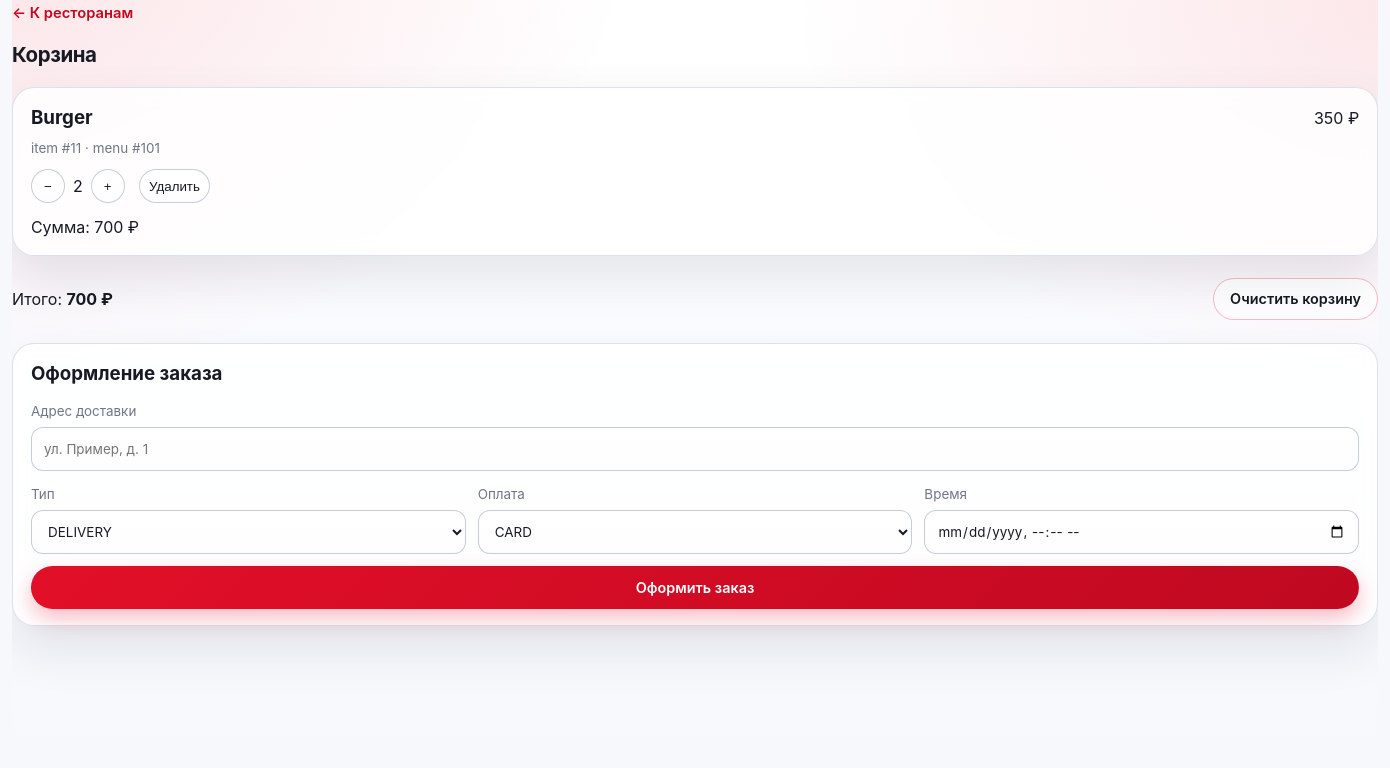
Scenario: CartPage › decrements quantity, clears cart and shows item action errors
Expected: the heading "Burger" is shown, top-left (31, 104), bottom-right (93, 132)
Click the button "−". click: (48, 186)
box: top-left (31, 170), bottom-right (65, 204)
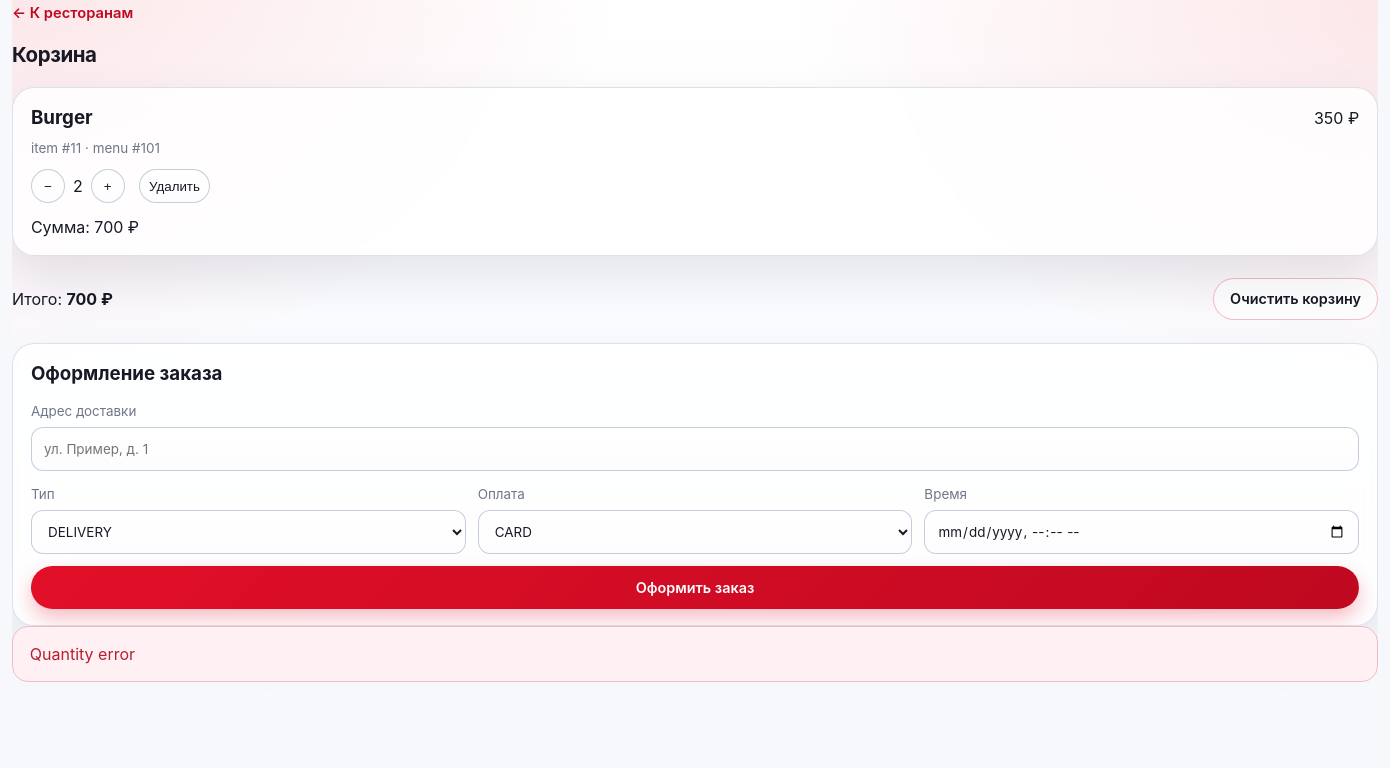
Expected: the text "Quantity error" is shown, top-left (30, 644), bottom-right (135, 664)
Click the button "Очистить корзину". click: (1296, 299)
box: top-left (1213, 278), bottom-right (1378, 320)
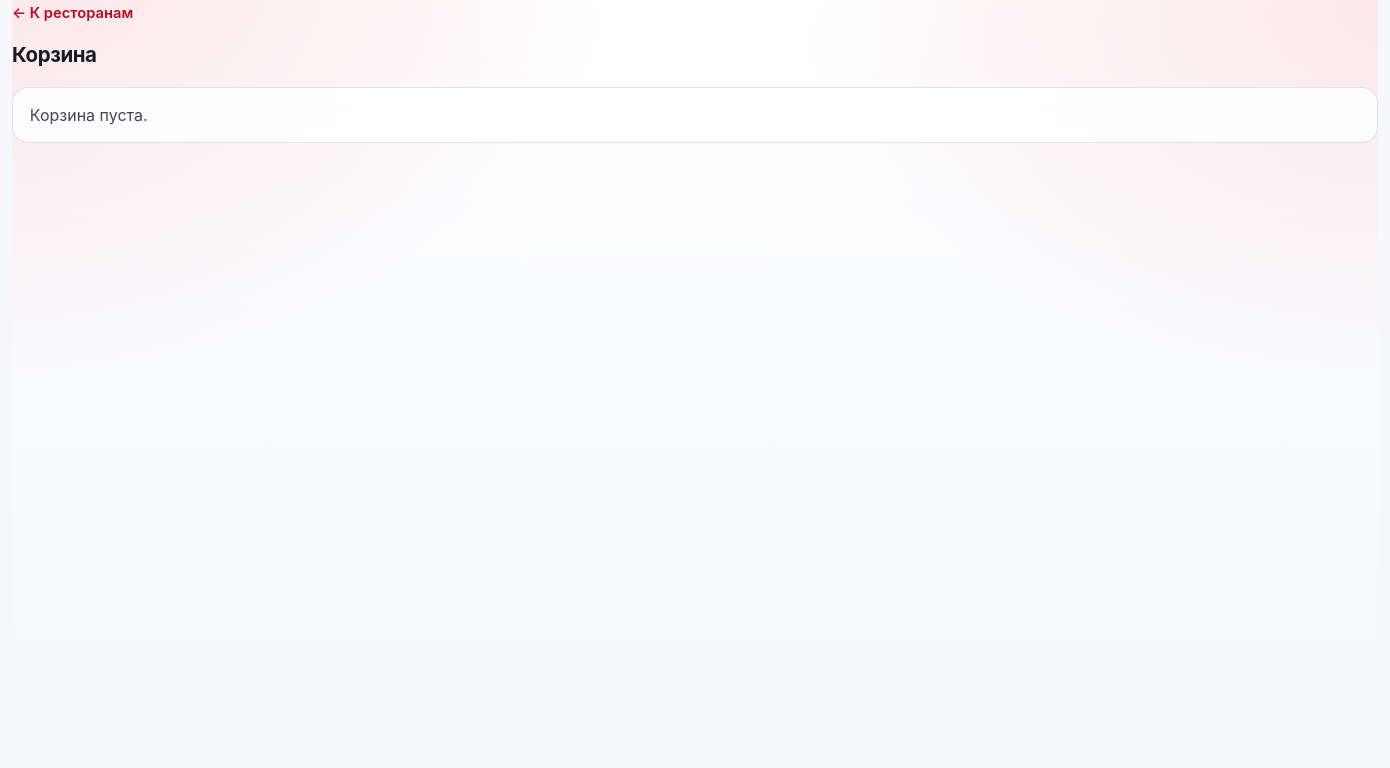
Expected: the text "Корзина пуста." is shown, top-left (12, 87), bottom-right (1378, 143)
